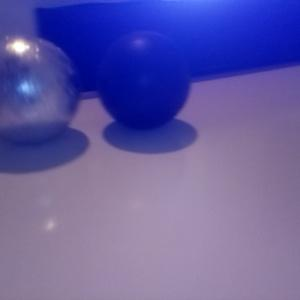alive_ball: (1, 33, 80, 147)
dead_ball: (96, 31, 191, 130)
